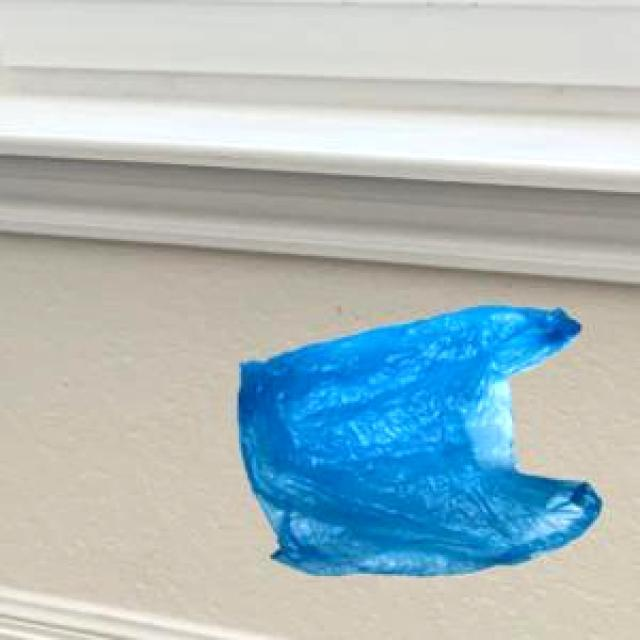Plastic_Bag: (237, 302, 598, 573)
